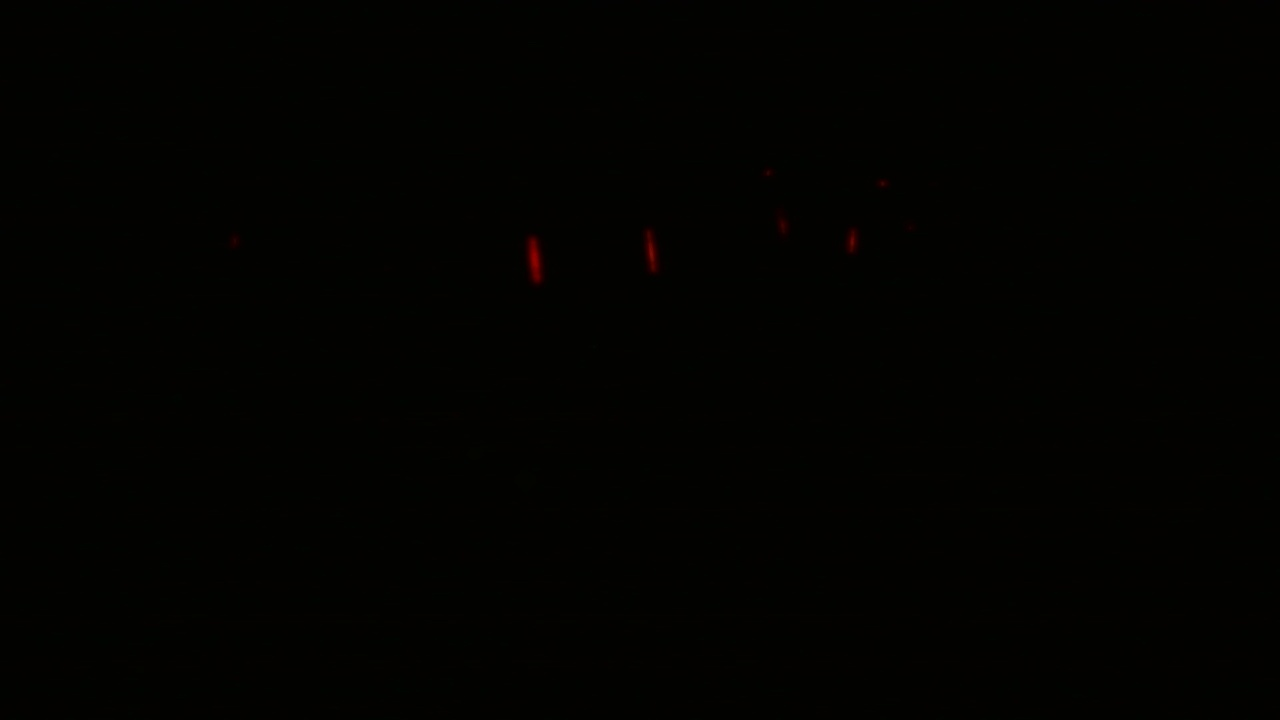pair1: (522, 221, 667, 296)
